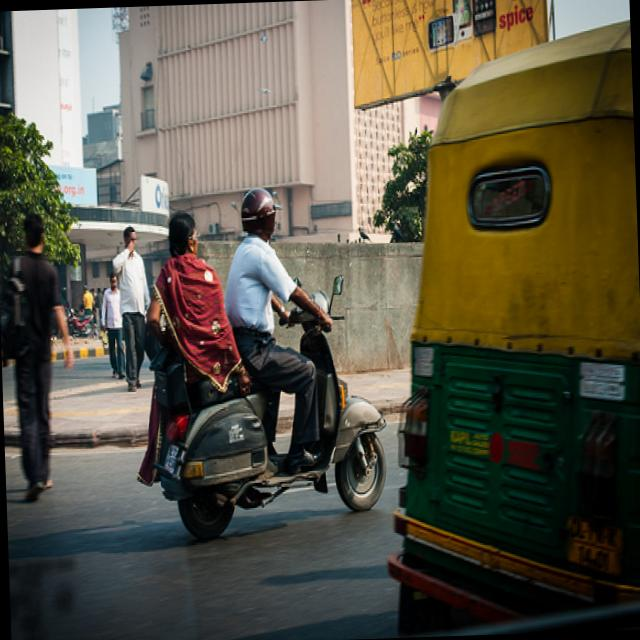Vehicle: (148, 303, 394, 544), (66, 306, 94, 337)
